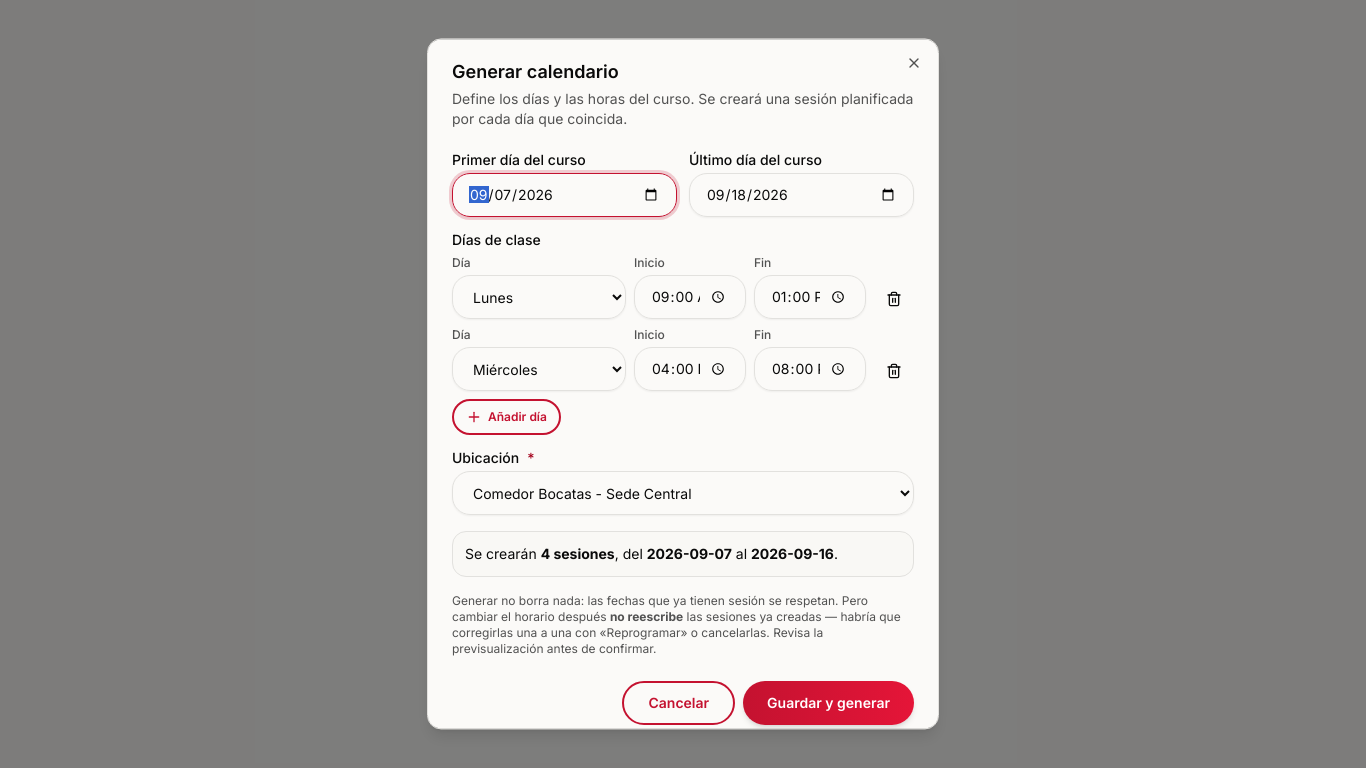
Test: GenerarCalendarioDialog — validación › no genera si se quitan todas las franjas
Click the button named "quitar". click: (894, 299)
box: [874,279,914,319]
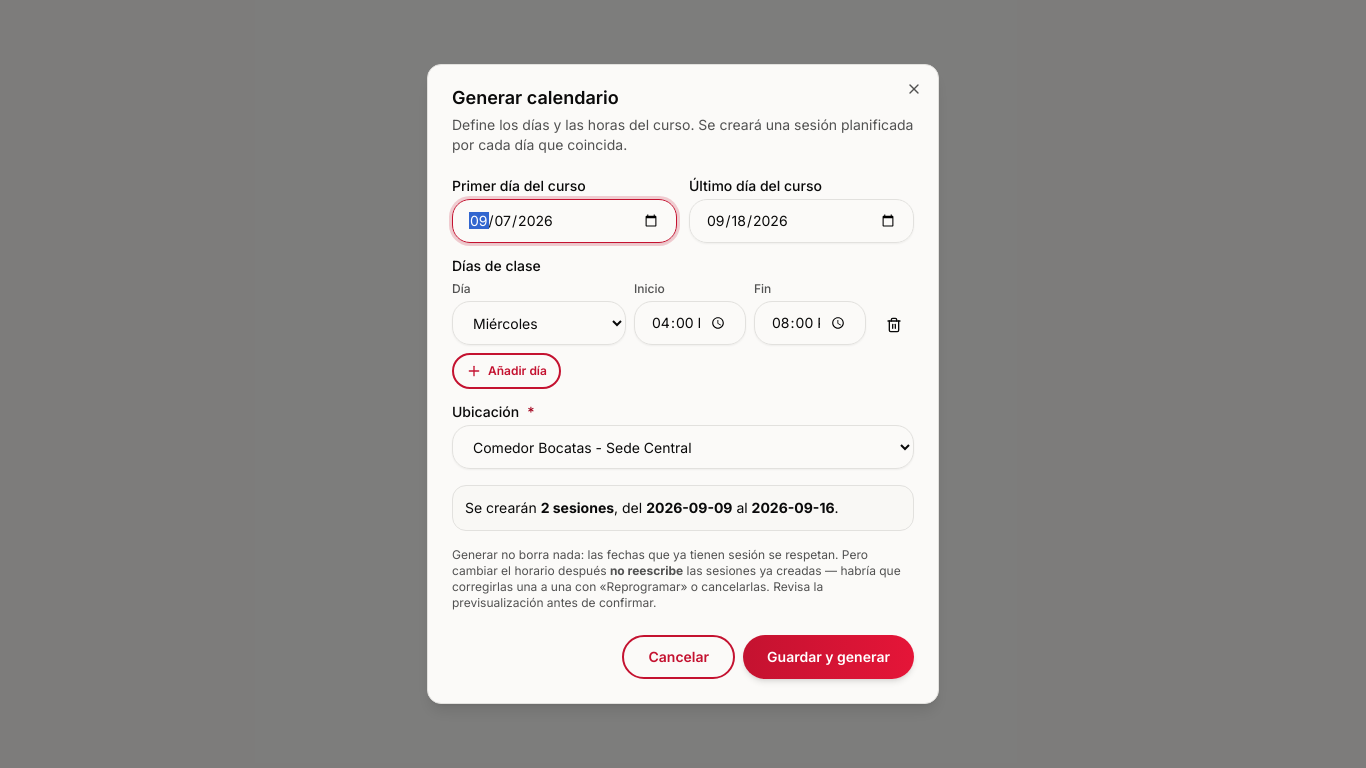
Click the button named "quitar". click: (894, 325)
box: [874,305,914,345]
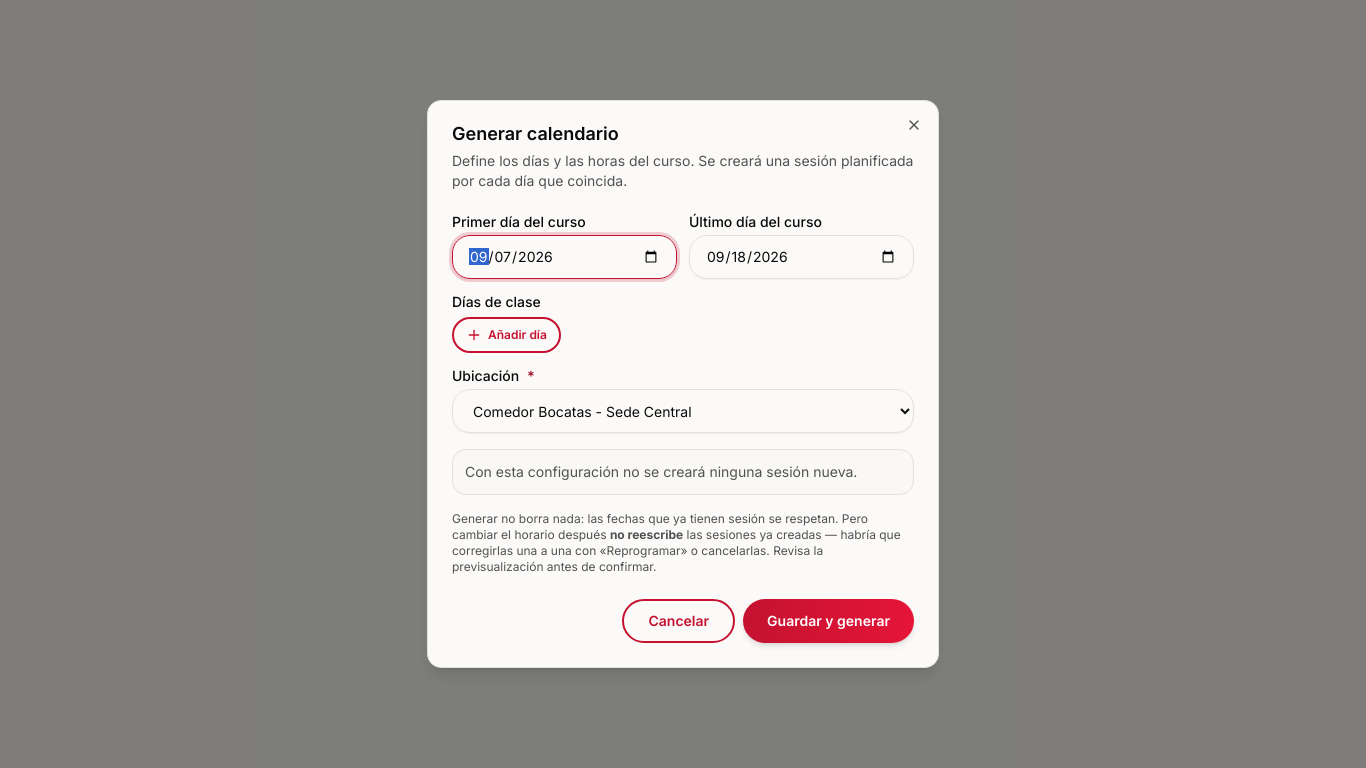
Click the button "Guardar y generar". click: (829, 621)
box: [743,599,914,643]
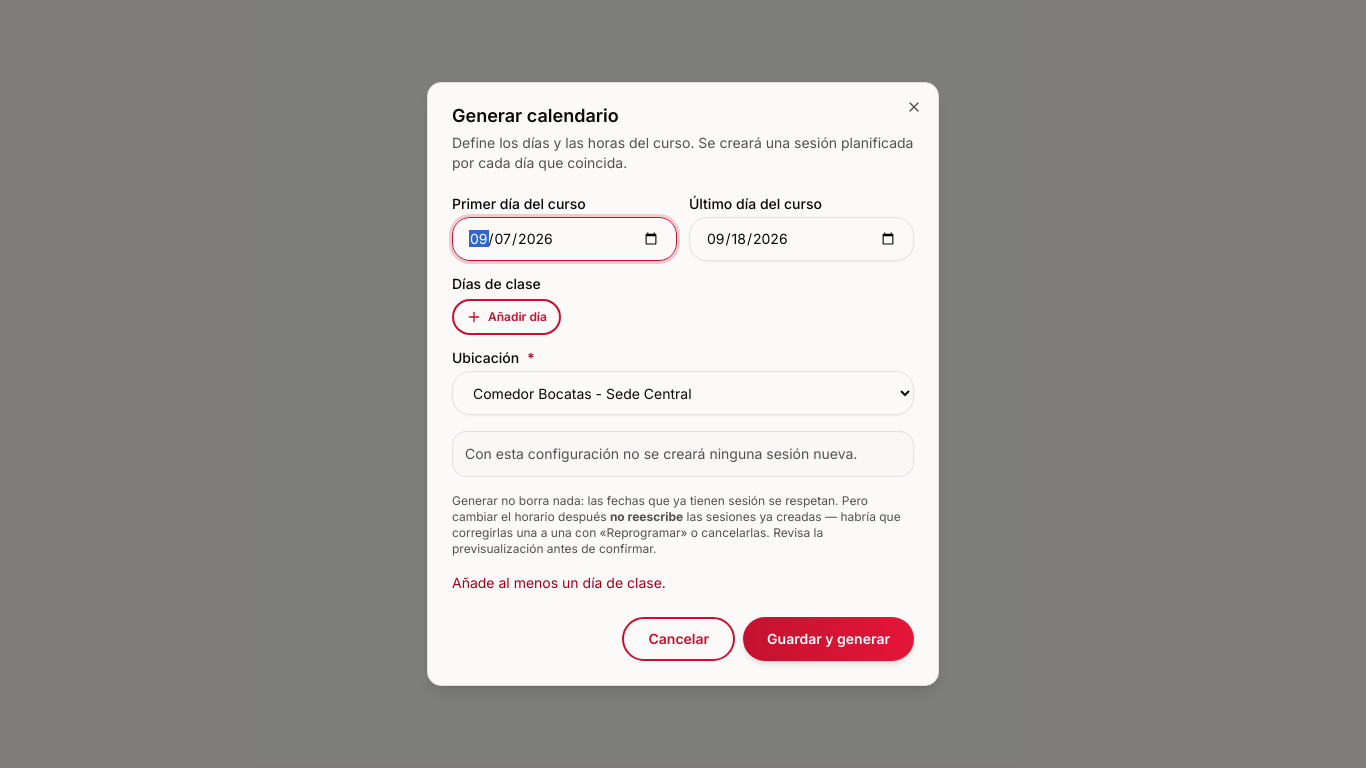
Expected: the list item "Añade al menos un día de clase." is shown, [452,574,666,591]
